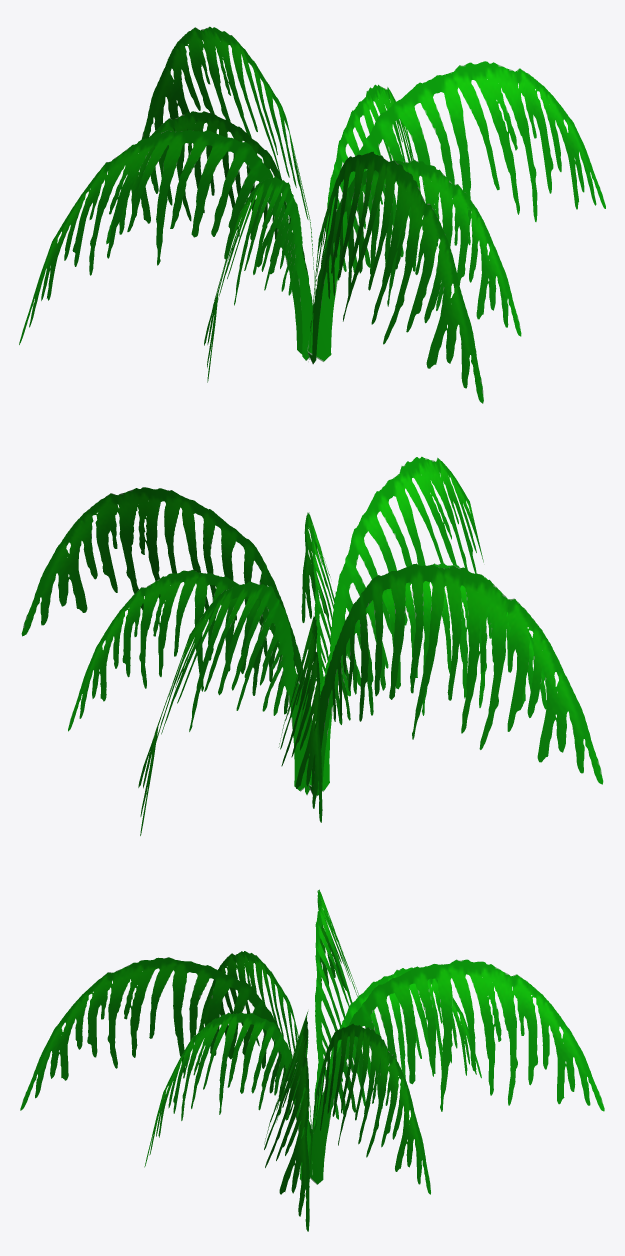
The model's file is bush06.obj.
3 renders of one model, top to bottom at view 1: azimuth 30°, elevation 25°; view 2: azimuth 150°, elevation 25°; view 3: azimuth 270°, elevation 25°, orthographic. The views are drawn at different scales.
Parts seen in each view (by area): view 1: Duplicate03, Duplicate04, Duplicate02, Triangles; view 2: Duplicate03, Duplicate04, Duplicate02, Triangles; view 3: Duplicate04, Triangles, Duplicate02, Duplicate03.
Boxes of the visible parts, left/top/right/bottom form: Duplicate03: left=19, top=61, right=605, bottom=361; Duplicate04: left=106, top=84, right=521, bottom=382; Duplicate02: left=308, top=151, right=483, bottom=403; Triangles: left=141, top=26, right=315, bottom=291; Duplicate03: left=21, top=487, right=603, bottom=795; Duplicate04: left=68, top=512, right=556, bottom=822; Duplicate02: left=309, top=456, right=483, bottom=791; Triangles: left=138, top=581, right=306, bottom=835; Duplicate04: left=144, top=951, right=481, bottom=1194; Triangles: left=308, top=959, right=604, bottom=1184; Duplicate02: left=20, top=957, right=311, bottom=1139; Duplicate03: left=264, top=889, right=358, bottom=1231.
Size of the model in its own units: 55.83 by 26.65 by 57.12.
